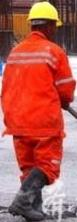boots: (0, 173, 63, 217)
hard-hat: (26, 1, 63, 27)
ppe-suit: (0, 42, 11, 66)
